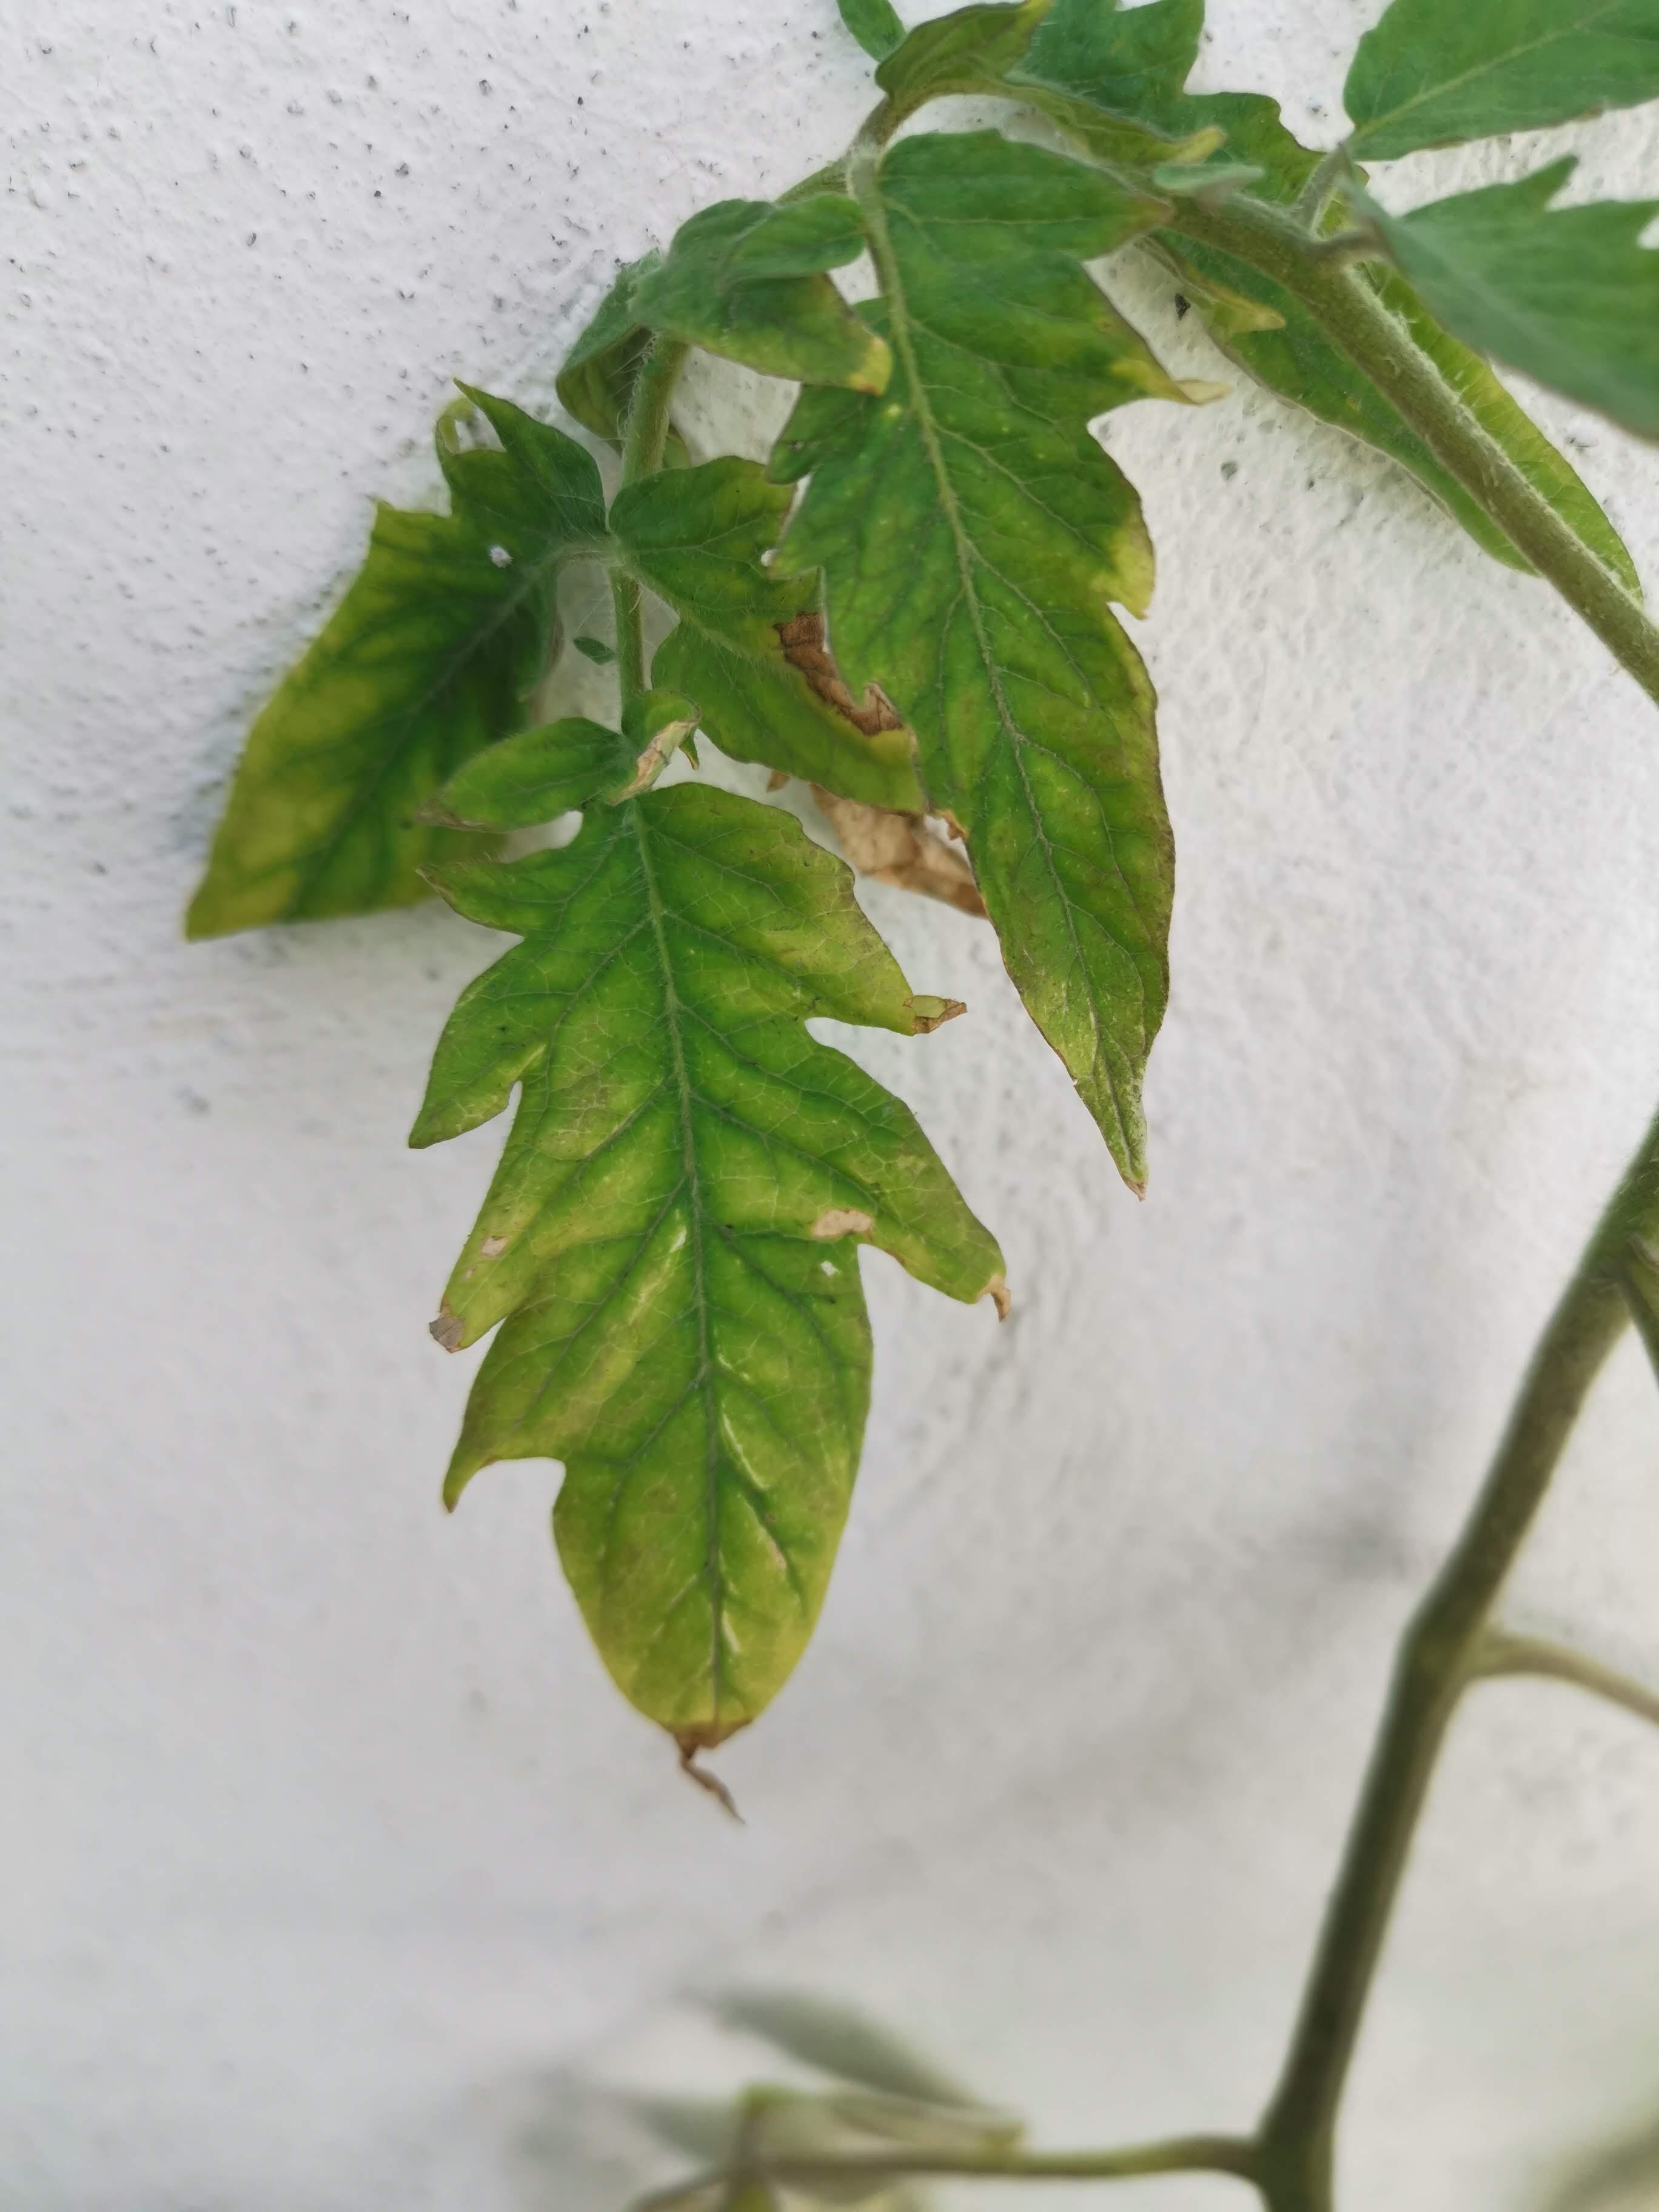Rugose leaf: (408, 782, 1007, 1831), (760, 293, 1176, 1202), (186, 505, 552, 937), (612, 456, 917, 798), (884, 125, 1229, 406), (627, 197, 890, 397), (443, 390, 605, 566)
Rugose stem: (842, 105, 890, 206)
